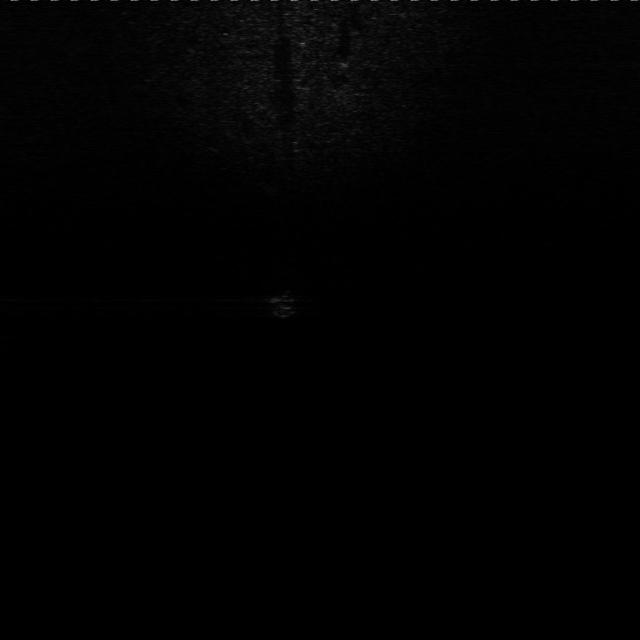human body: (264, 288, 306, 322)
